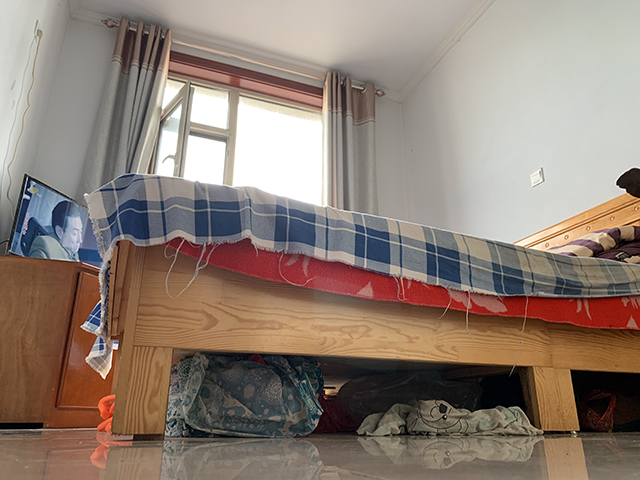bed: (81, 172, 640, 442)
cabinet: (1, 251, 118, 432)
